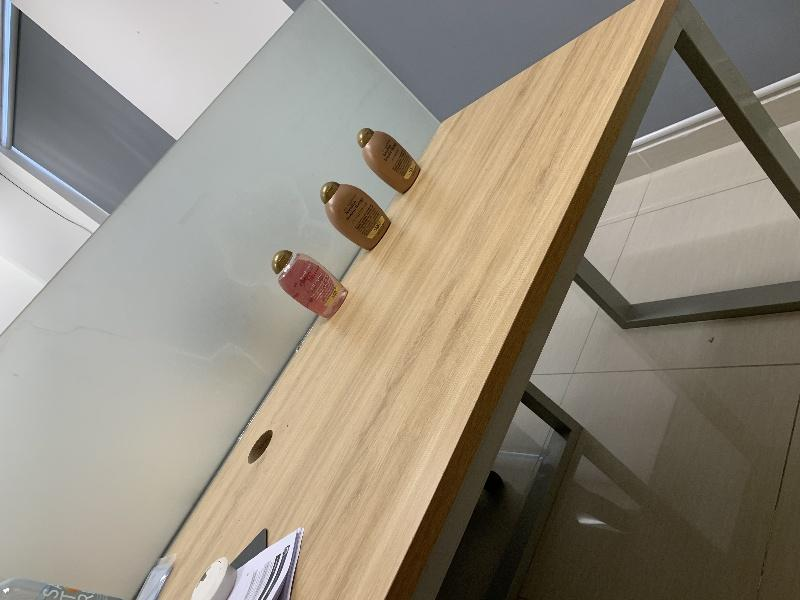BrazilianKeratinTherapy_Shampoo: (356, 128, 420, 194)
BrazilianKerationTherapy_Conditioner: (320, 181, 391, 250)
CherryBlossom_Shampoo: (272, 250, 348, 319)
